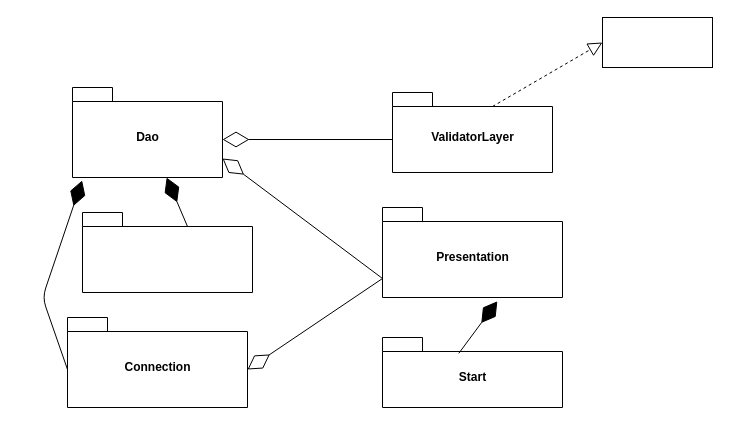
The diagram is 730 pixels wide and 425 high, and some of its shapes have lost their labels. The shapes that lost their labels are listed below. From the top down, each one's box as (x1, y1, x2, y2) in pixels, then its label:
(602, 16, 712, 68): «interface» Validator
(82, 212, 252, 292): Model
